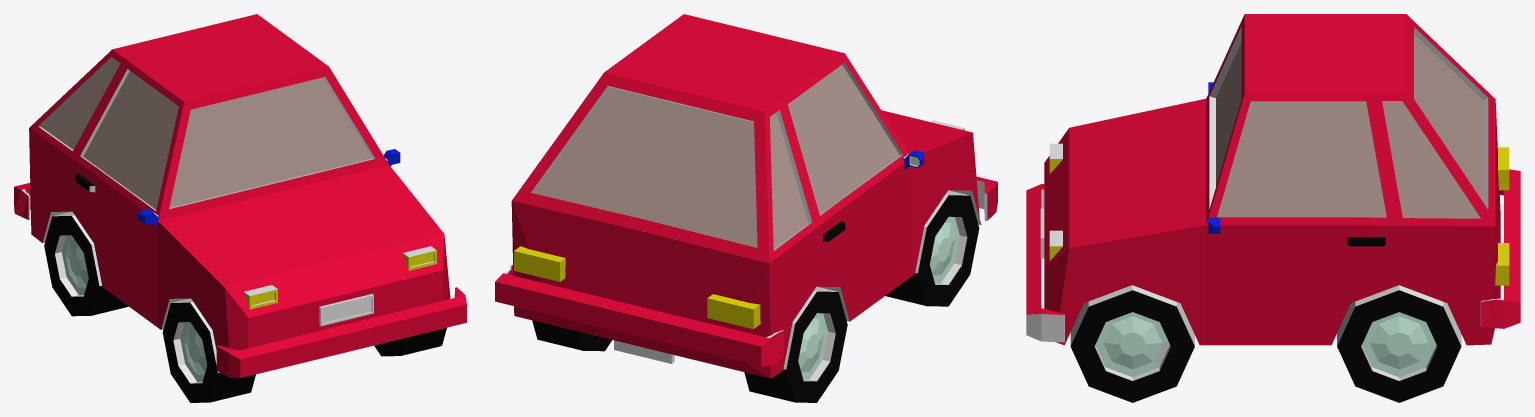
File: mcQueen2.fbx
The picture shows the model from 3 angles, left to right: view 1: azimuth 30°, elevation 25°; view 2: azimuth 150°, elevation 25°; view 3: azimuth 270°, elevation 25°; orthographic projection. The views are drawn at different scales.
Visible parts, largest first — view 1: Small; view 2: Small; view 3: Small.
Part boxes in pixels (left/top/right/bottom): Small: left=14, top=14, right=466, bottom=402; Small: left=495, top=14, right=997, bottom=402; Small: left=1026, top=14, right=1520, bottom=402.
Bounding box in the file's own units: 193 × 181 × 284.
